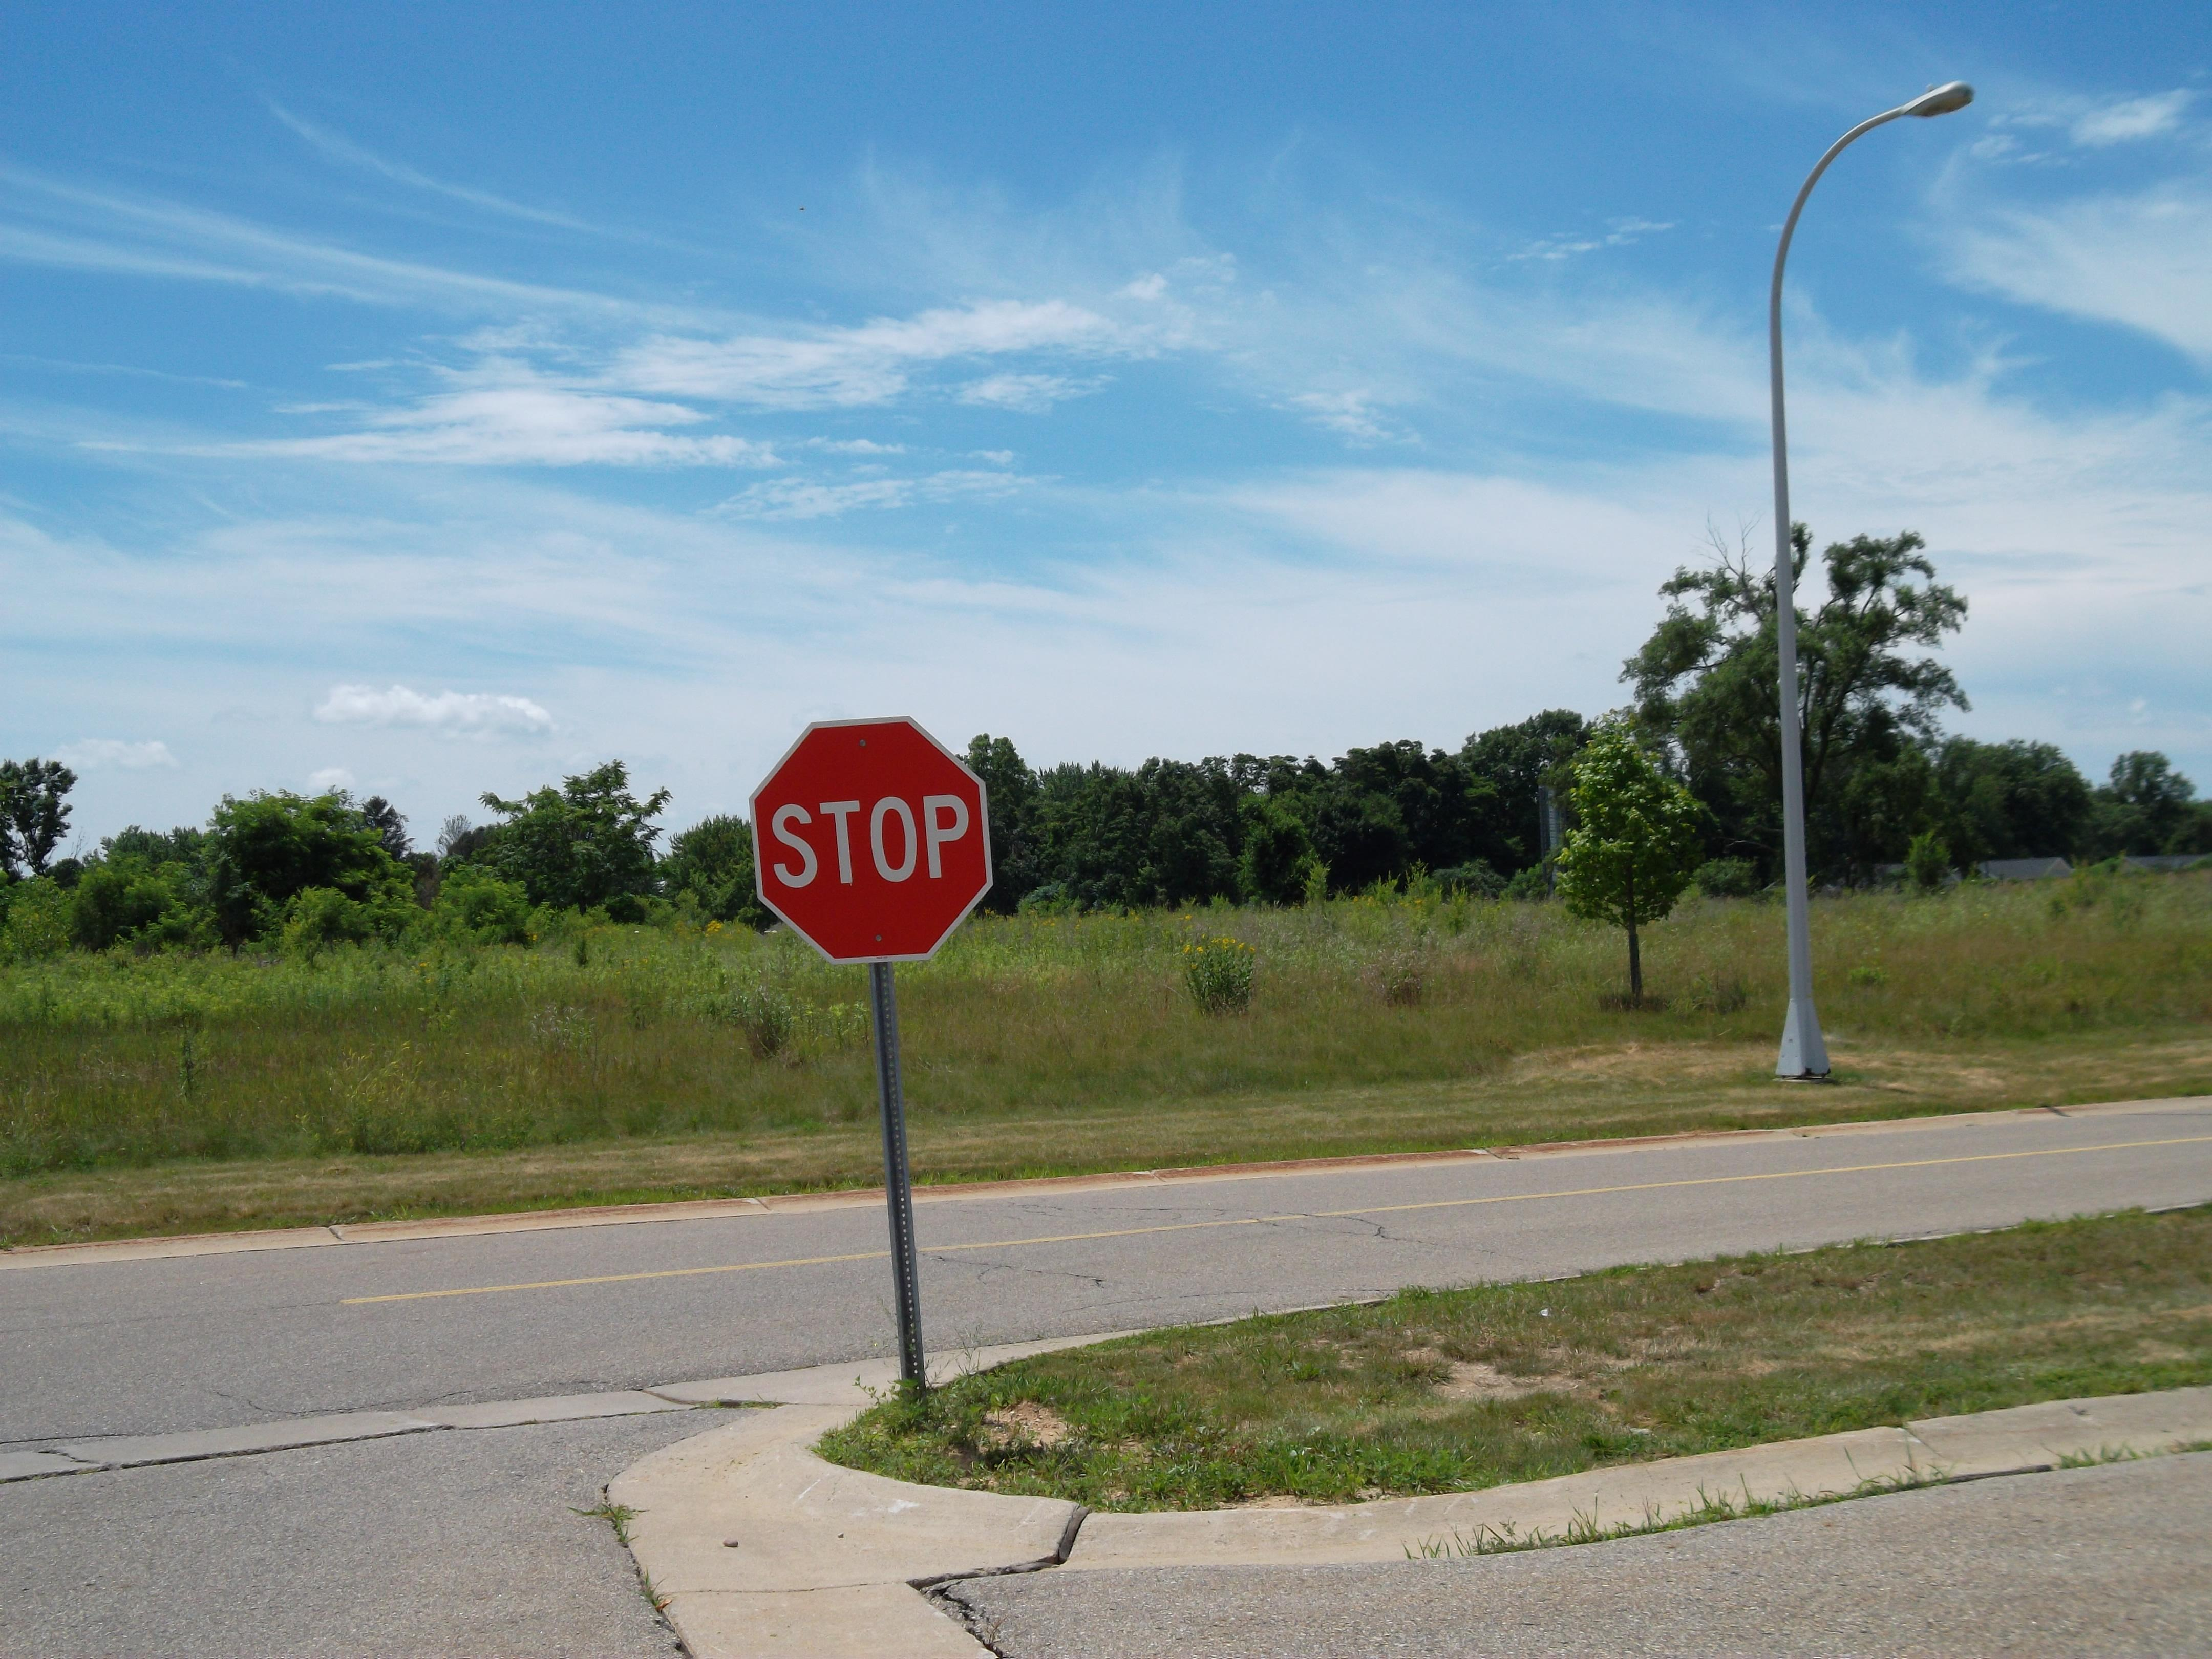stop: (735, 704, 1001, 974)
